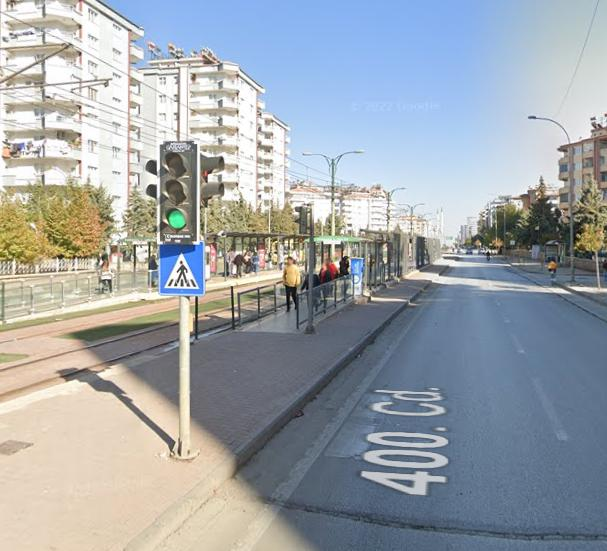greenlight: (159, 142, 193, 233)
